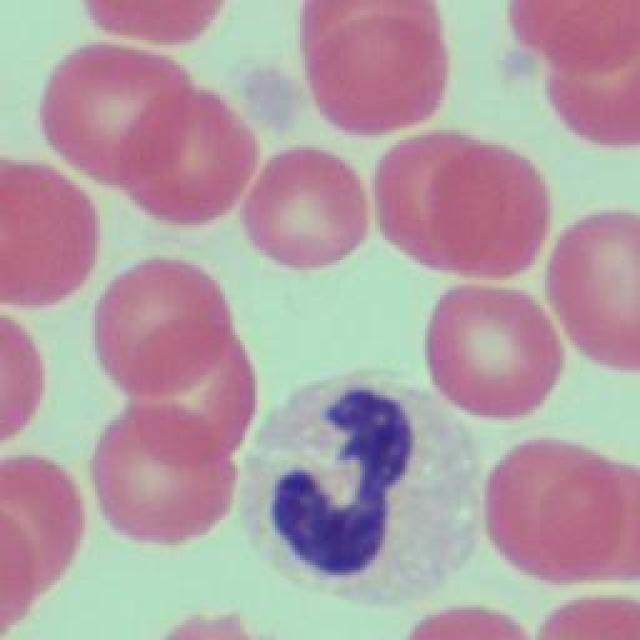RBC: (38, 44, 198, 186), (91, 397, 236, 545), (92, 256, 228, 402), (480, 437, 615, 575), (129, 322, 256, 466), (370, 128, 495, 272), (430, 285, 562, 420), (126, 91, 262, 219), (426, 139, 549, 276), (305, 17, 450, 132), (244, 148, 371, 272), (547, 207, 640, 372), (0, 164, 100, 301), (534, 460, 638, 582), (0, 458, 85, 590), (542, 31, 640, 144), (298, 0, 450, 68), (505, 0, 640, 65), (77, 0, 225, 48), (0, 319, 45, 439), (0, 516, 42, 628), (537, 597, 640, 640), (408, 605, 532, 640), (161, 610, 261, 640)
WBC: (236, 366, 492, 602)
